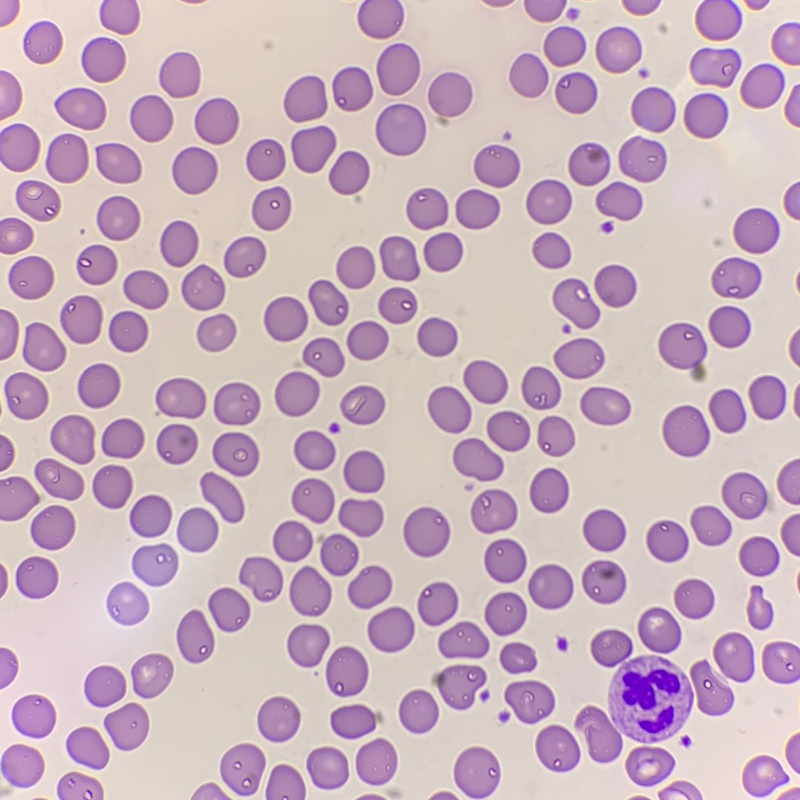RBC: (575, 629, 692, 761), (658, 323, 706, 381), (376, 104, 425, 155), (432, 665, 485, 709), (553, 279, 599, 328), (722, 472, 771, 518), (663, 406, 708, 456), (454, 747, 499, 797), (690, 661, 732, 714), (404, 507, 449, 556), (220, 744, 264, 794), (376, 43, 419, 94), (453, 438, 503, 480), (172, 147, 217, 193), (368, 607, 414, 652), (619, 137, 666, 181), (201, 473, 243, 522), (289, 567, 331, 616), (505, 680, 554, 722), (291, 126, 335, 172), (105, 703, 148, 750), (46, 134, 88, 182), (60, 295, 102, 343), (51, 415, 93, 463), (56, 88, 105, 129), (554, 338, 604, 378), (596, 27, 640, 72), (526, 180, 571, 224), (733, 209, 778, 253), (213, 432, 258, 476), (471, 489, 516, 533), (195, 98, 238, 144), (428, 386, 471, 432), (536, 725, 579, 771), (23, 323, 65, 370), (712, 257, 760, 298), (326, 647, 367, 695), (528, 564, 572, 608), (428, 72, 471, 117), (130, 95, 172, 141), (5, 373, 47, 419), (35, 459, 83, 499), (156, 378, 205, 417), (631, 87, 674, 131), (9, 256, 53, 299), (181, 266, 224, 310), (264, 297, 307, 341), (463, 360, 507, 403), (275, 372, 318, 416), (239, 557, 282, 601), (284, 76, 326, 121), (474, 145, 519, 187), (638, 607, 680, 652), (177, 610, 213, 662), (714, 633, 753, 681), (82, 38, 125, 81), (31, 506, 74, 549), (582, 560, 625, 603), (97, 196, 139, 240), (159, 52, 200, 97), (214, 383, 259, 424), (0, 124, 39, 171), (626, 746, 673, 785), (690, 49, 739, 86), (581, 387, 630, 424), (684, 94, 726, 137), (292, 479, 334, 522), (348, 566, 391, 608), (133, 544, 177, 585), (132, 654, 173, 698), (258, 697, 299, 741), (96, 143, 141, 183), (438, 621, 488, 657), (356, 739, 396, 784), (287, 624, 329, 666), (78, 364, 119, 407), (208, 588, 249, 631), (485, 592, 526, 635), (12, 695, 55, 736), (309, 280, 348, 325), (741, 65, 782, 107), (696, 0, 739, 40), (332, 67, 372, 110), (329, 151, 369, 194), (16, 180, 59, 220), (92, 465, 132, 508), (485, 539, 525, 582), (380, 236, 419, 280), (358, 0, 403, 38), (596, 182, 641, 220), (407, 188, 448, 229), (595, 265, 636, 306), (130, 495, 171, 536), (583, 510, 624, 551), (67, 727, 108, 768), (307, 747, 348, 788), (569, 143, 609, 185), (487, 411, 529, 451), (1, 745, 43, 785), (178, 508, 217, 551), (418, 582, 457, 625), (123, 270, 167, 308), (530, 468, 568, 512), (160, 221, 197, 266), (331, 704, 381, 737), (555, 73, 596, 113), (224, 237, 265, 277), (709, 306, 749, 347), (16, 557, 57, 597), (84, 666, 125, 706), (399, 690, 438, 732), (456, 190, 499, 228), (341, 386, 384, 424), (0, 477, 38, 520), (157, 424, 197, 464), (647, 521, 687, 561), (544, 27, 585, 66), (246, 139, 285, 180), (344, 451, 383, 492), (252, 187, 290, 229), (522, 367, 560, 409), (101, 419, 143, 457), (320, 534, 358, 576), (510, 54, 547, 97), (339, 499, 382, 536), (273, 521, 312, 561), (109, 582, 148, 622), (743, 756, 783, 795), (336, 247, 374, 288), (303, 338, 344, 376), (77, 245, 116, 284), (691, 506, 730, 545), (674, 579, 713, 618), (109, 311, 147, 351), (417, 318, 457, 356), (347, 321, 387, 359), (294, 431, 334, 469), (709, 389, 744, 432), (424, 232, 462, 271), (24, 22, 61, 62), (762, 642, 799, 682), (749, 376, 784, 418), (739, 537, 777, 575), (538, 416, 574, 456), (197, 314, 235, 351), (533, 232, 570, 268), (379, 287, 416, 323), (266, 765, 305, 799), (100, 0, 139, 33), (57, 772, 102, 799), (0, 218, 32, 253), (772, 24, 799, 64), (500, 643, 535, 673), (747, 586, 771, 628), (0, 73, 21, 118), (778, 460, 799, 504), (0, 310, 18, 359), (524, 0, 565, 21), (781, 514, 799, 555), (0, 648, 17, 687), (785, 85, 799, 125), (193, 783, 226, 799), (784, 183, 799, 218), (673, 781, 701, 799), (623, 0, 658, 14), (786, 735, 799, 771), (0, 0, 18, 25), (0, 436, 13, 469), (790, 332, 799, 363), (781, 788, 799, 799), (0, 568, 7, 593), (747, 0, 766, 8), (433, 792, 454, 799), (488, 0, 508, 6), (794, 391, 799, 412), (660, 791, 669, 799), (602, 223, 610, 231), (363, 795, 378, 799), (0, 787, 6, 795)
